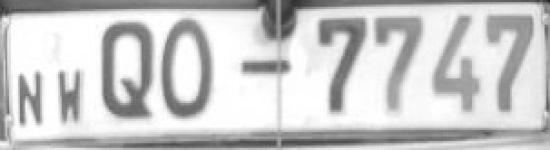-: (235, 52, 294, 82)
4: (430, 9, 485, 116)
7: (368, 11, 429, 118), (313, 11, 370, 119), (487, 6, 537, 120)
N: (14, 67, 50, 132)
O: (159, 15, 223, 129)
Q: (98, 13, 158, 123)
W: (54, 64, 88, 133)
